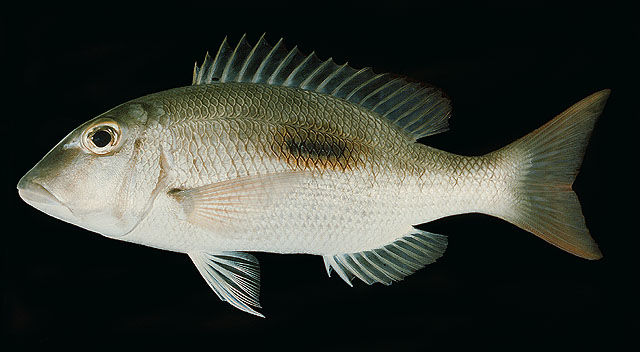fish: (16, 32, 613, 320)
